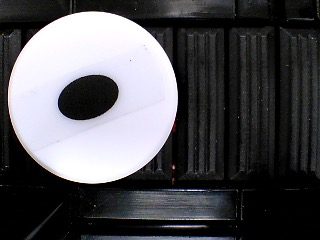BOHOEL: (7, 10, 178, 184)
